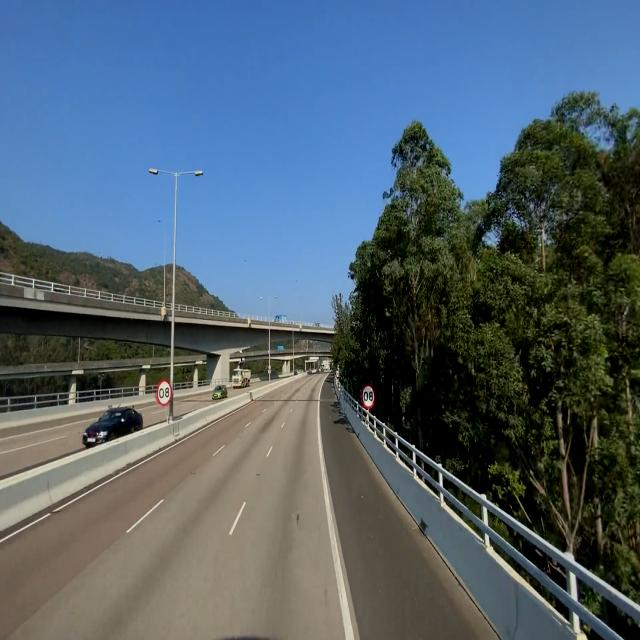Vehicle: (81, 399, 146, 459), (211, 381, 227, 402)
